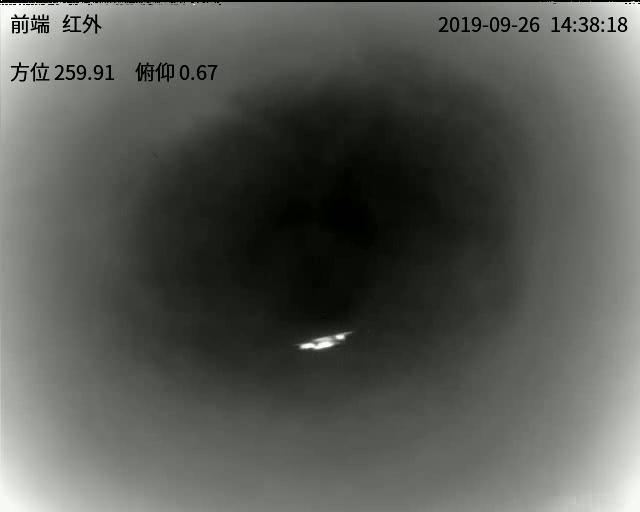DRONE: (296, 329, 350, 353)
